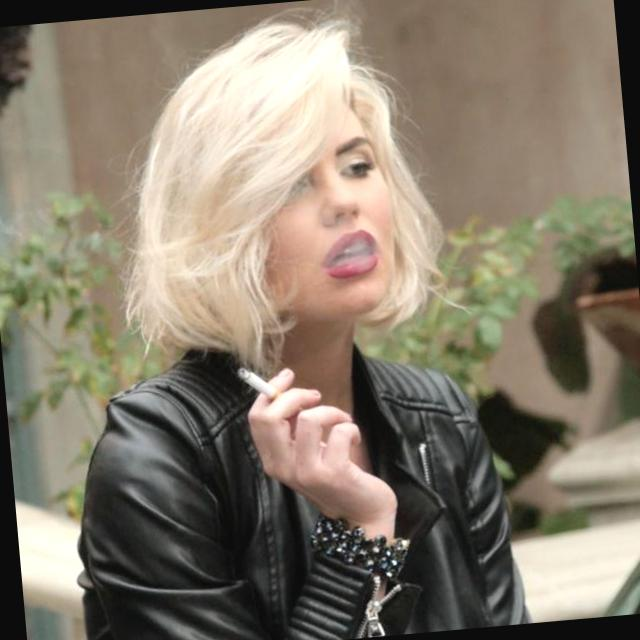cigarette: (225, 349, 308, 438)
